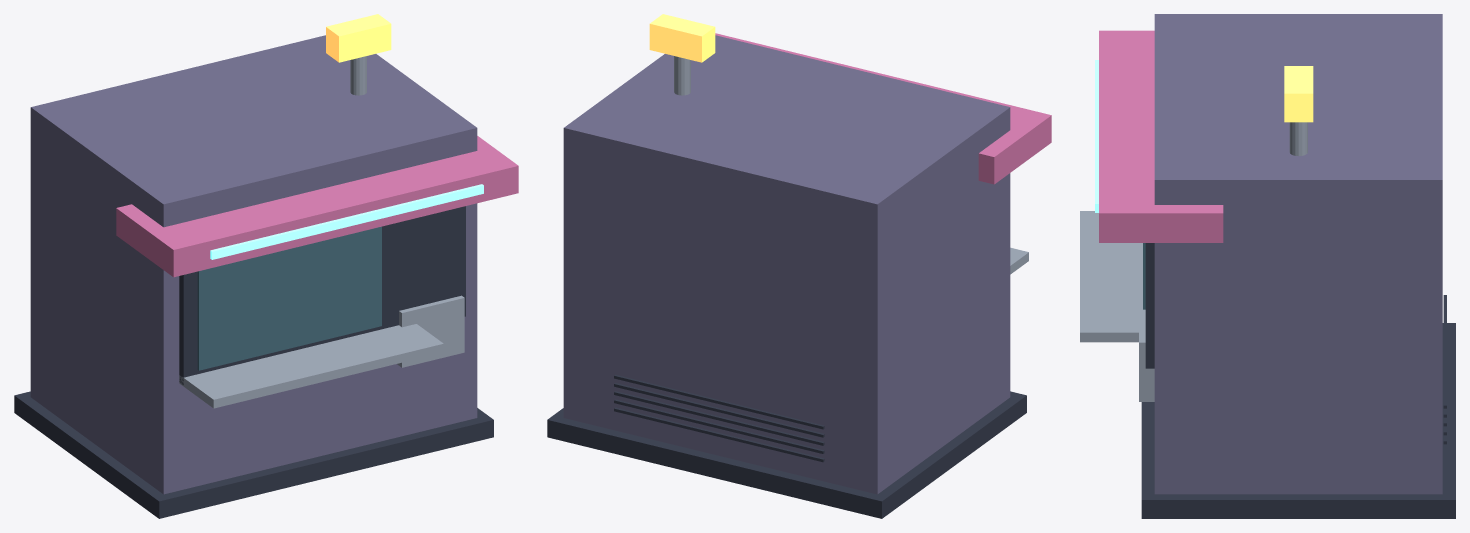
Rendered from neon-dispatch-courier-dispatch-kiosk__165.glb.
The picture shows the model from 3 angles, left to right: view 1: azimuth 30°, elevation 25°; view 2: azimuth 150°, elevation 25°; view 3: azimuth 270°, elevation 25°; orthographic projection. The views are drawn at different scales.
Visible parts, largest first — view 1: shell, dark, glass, accent, metal, light, warm; view 2: shell, dark, accent, warm, metal; view 3: shell, accent, dark, metal, warm, light.
Boxes of the visible parts, bbox=[...] form: shell: bbox=[30, 35, 477, 494]; dark: bbox=[14, 206, 493, 518]; glass: bbox=[197, 226, 381, 370]; accent: bbox=[116, 136, 518, 277]; metal: bbox=[179, 56, 464, 408]; light: bbox=[210, 184, 483, 259]; warm: bbox=[326, 14, 391, 62]; shell: bbox=[563, 35, 1010, 494]; dark: bbox=[547, 374, 1026, 518]; accent: bbox=[715, 33, 1051, 184]; warm: bbox=[649, 14, 715, 62]; metal: bbox=[674, 56, 1028, 274]; shell: bbox=[1154, 14, 1442, 494]; accent: bbox=[1099, 30, 1223, 242]; dark: bbox=[1141, 243, 1455, 518]; metal: bbox=[1080, 122, 1307, 401]; warm: bbox=[1284, 66, 1313, 122]; light: bbox=[1095, 60, 1098, 212].
Size of the model in its own units: 3.3 by 3.42 by 2.87.
